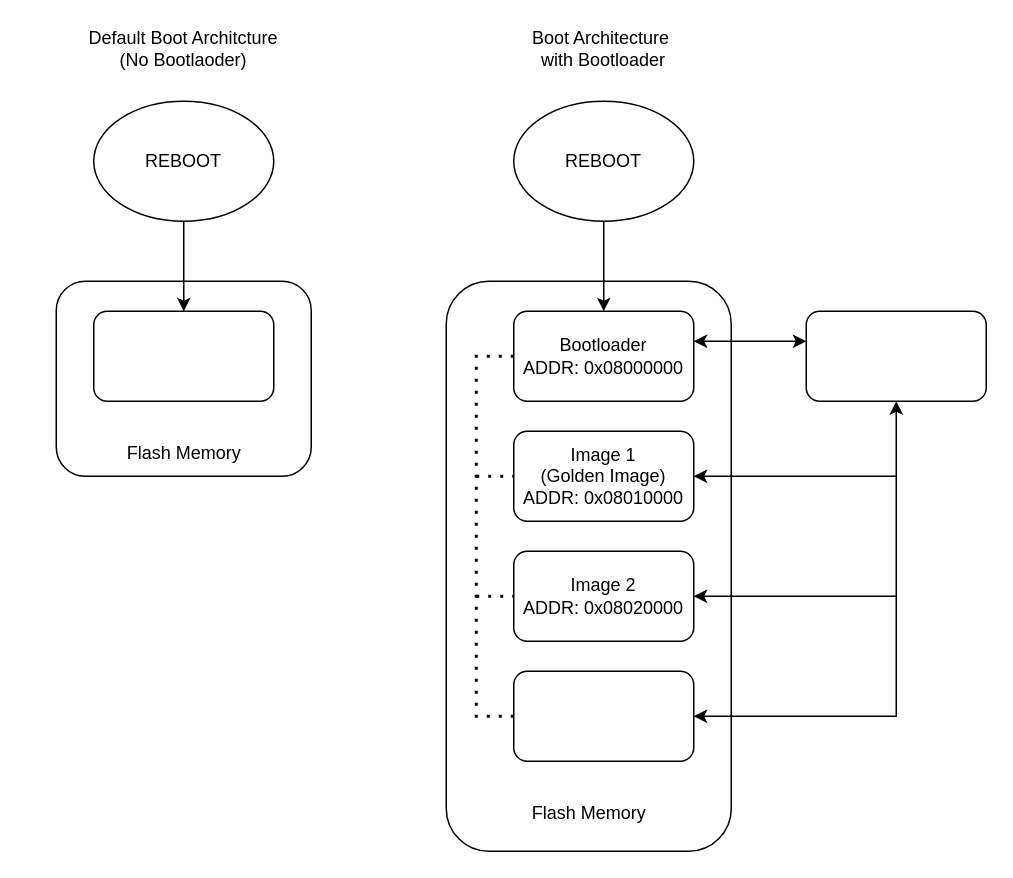
The diagram is 1013 pixels wide and 878 high, and some of its shapes have lost their labels. The centre of each missing label's shape, as x and y in pixels:
"Firmware Image ADDR: 0x08000000" goes at pixel 183 355.
"FRAM Metadata" goes at pixel 895 355.
"Image 3 ADDR: 0x08040000" goes at pixel 603 715.
